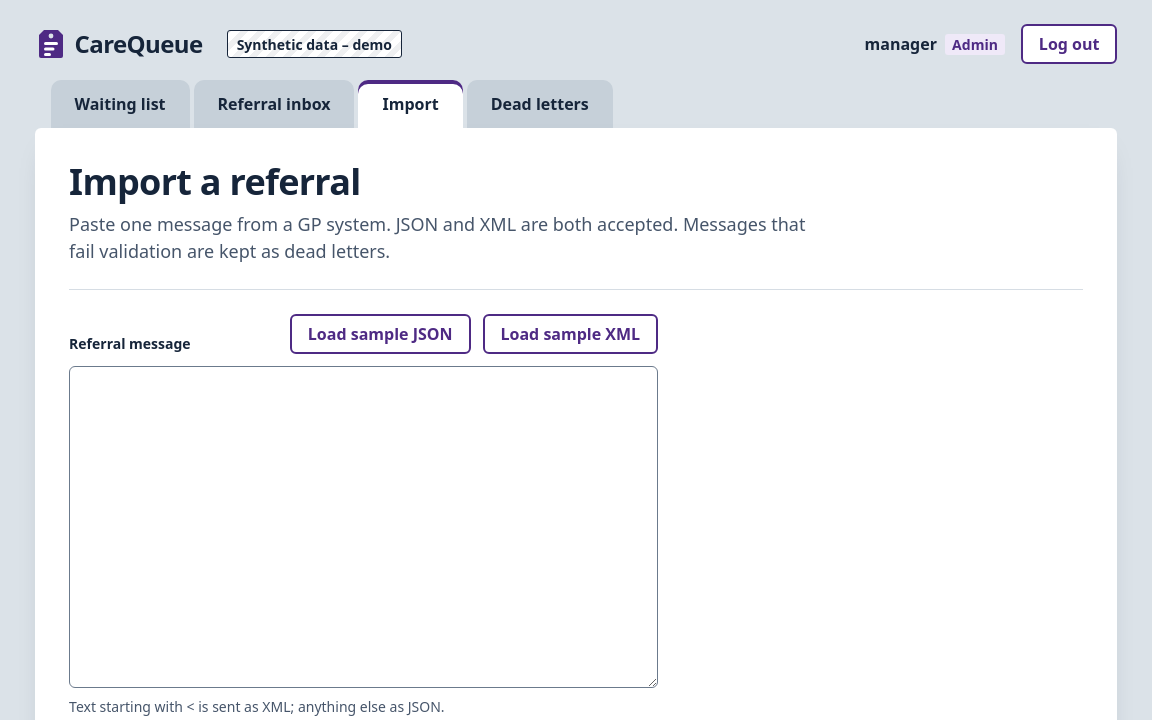
Test: import page › shows the validation errors and the dead letter id for an invalid message (422)
Click the text box labelled "Referral message". click: {"x": 364, "y": 527}
box: x1=69 y1=366 x2=658 y2=688
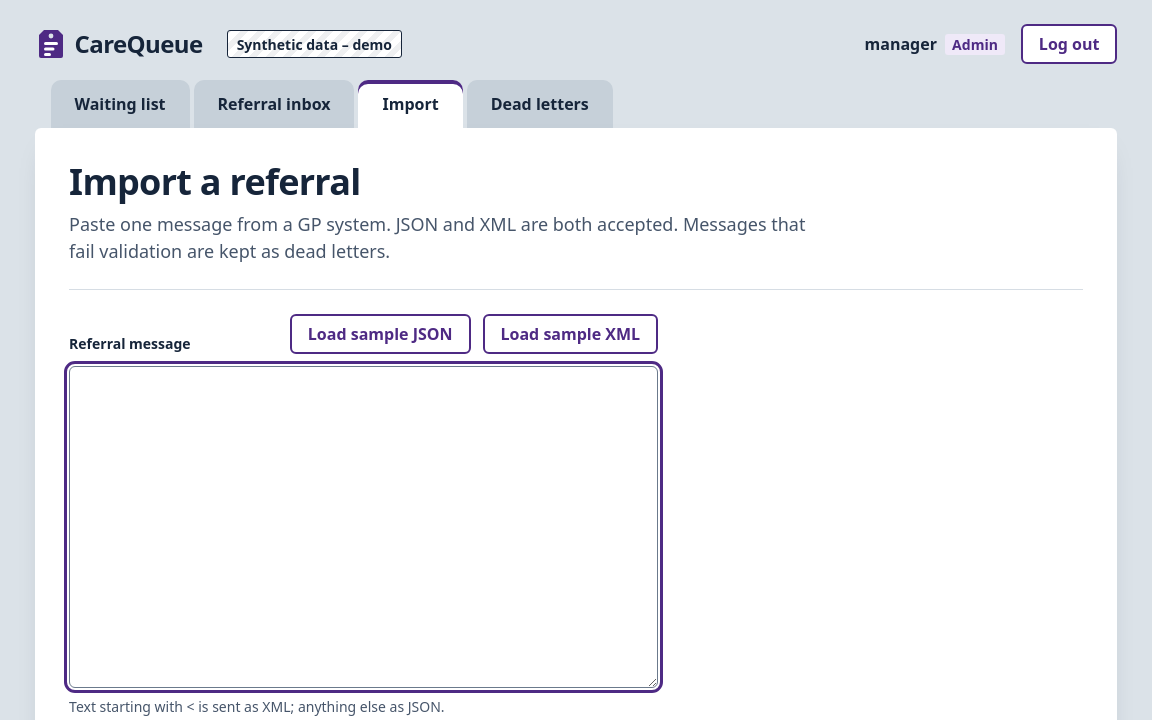
Type keys "{\"externalRef\": \"GP-UI-BAD-001\", \"patient\": {\"mrn\": \"MRN-900999\"}}"
(page scrolled)
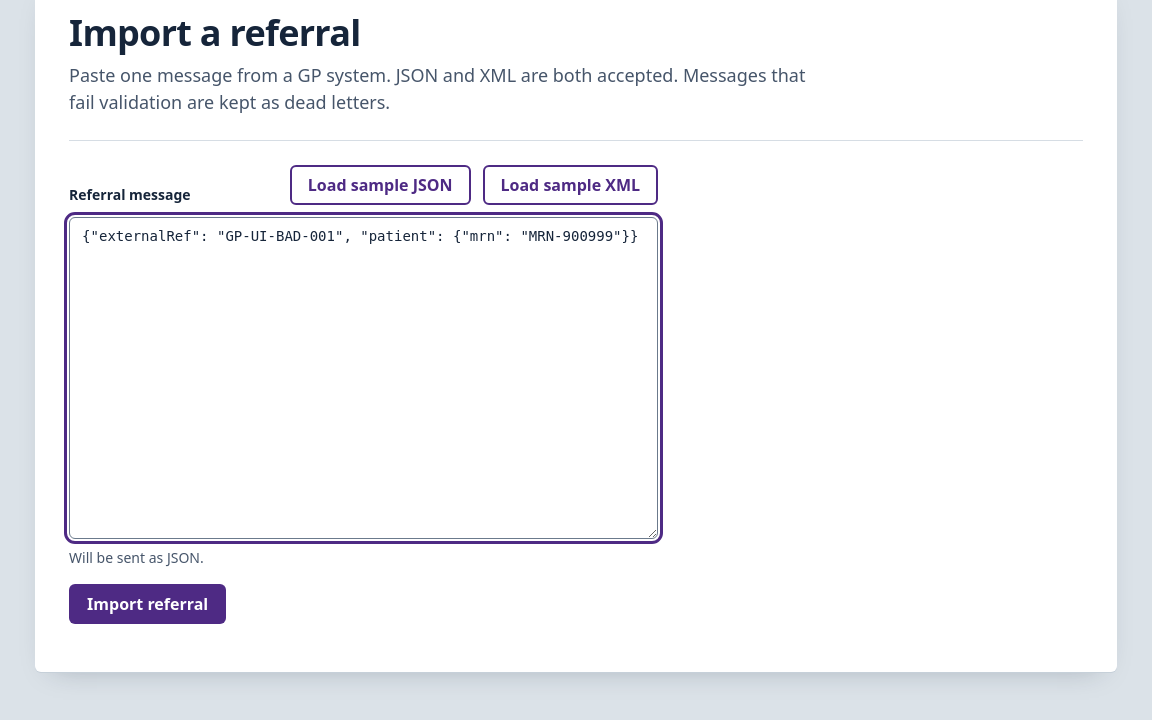
Click the button "Import referral". click: {"x": 148, "y": 604}
box: x1=69 y1=584 x2=226 y2=624
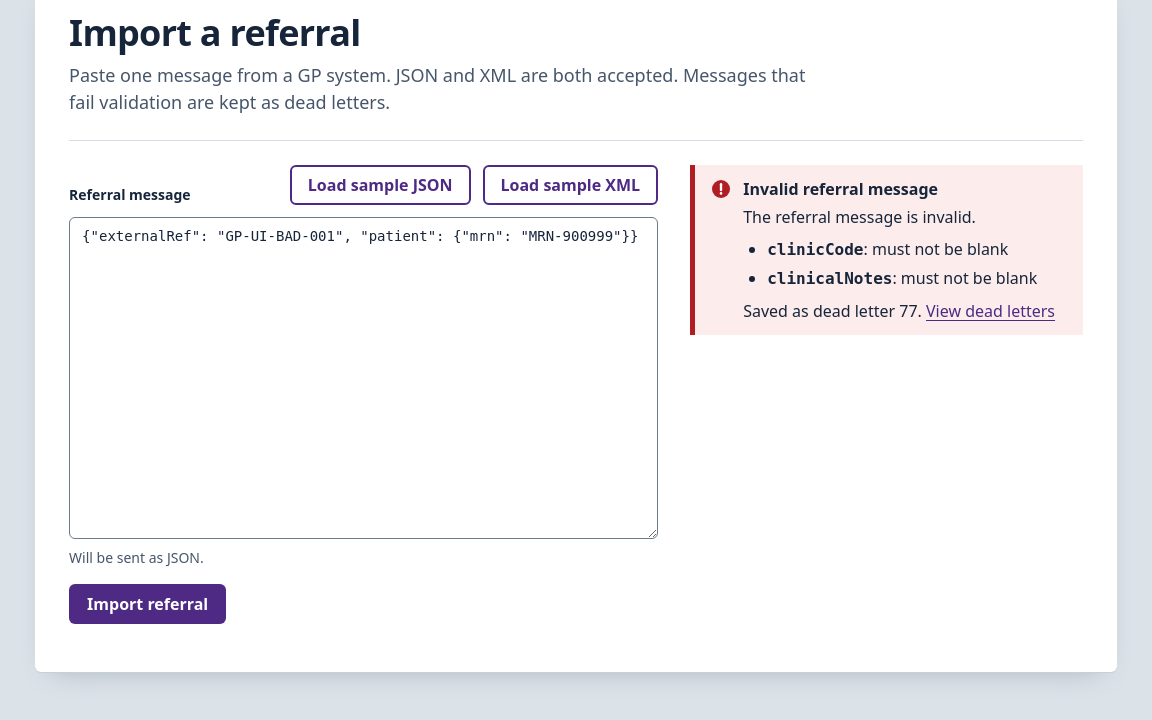
expect the text "The referral message is invalid." is shown: met, box x1=743 y1=206 x2=976 y2=228
expect the list items read "clinicCode: must not be blank", "clinicalNotes: must not be blank", in this order: met, box x1=767 y1=238 x2=1008 y2=260; x1=767 y1=266 x2=1055 y2=291
expect the text "Saved as dead letter 77. View dead letters" is shown: met, box x1=743 y1=299 x2=1055 y2=323
